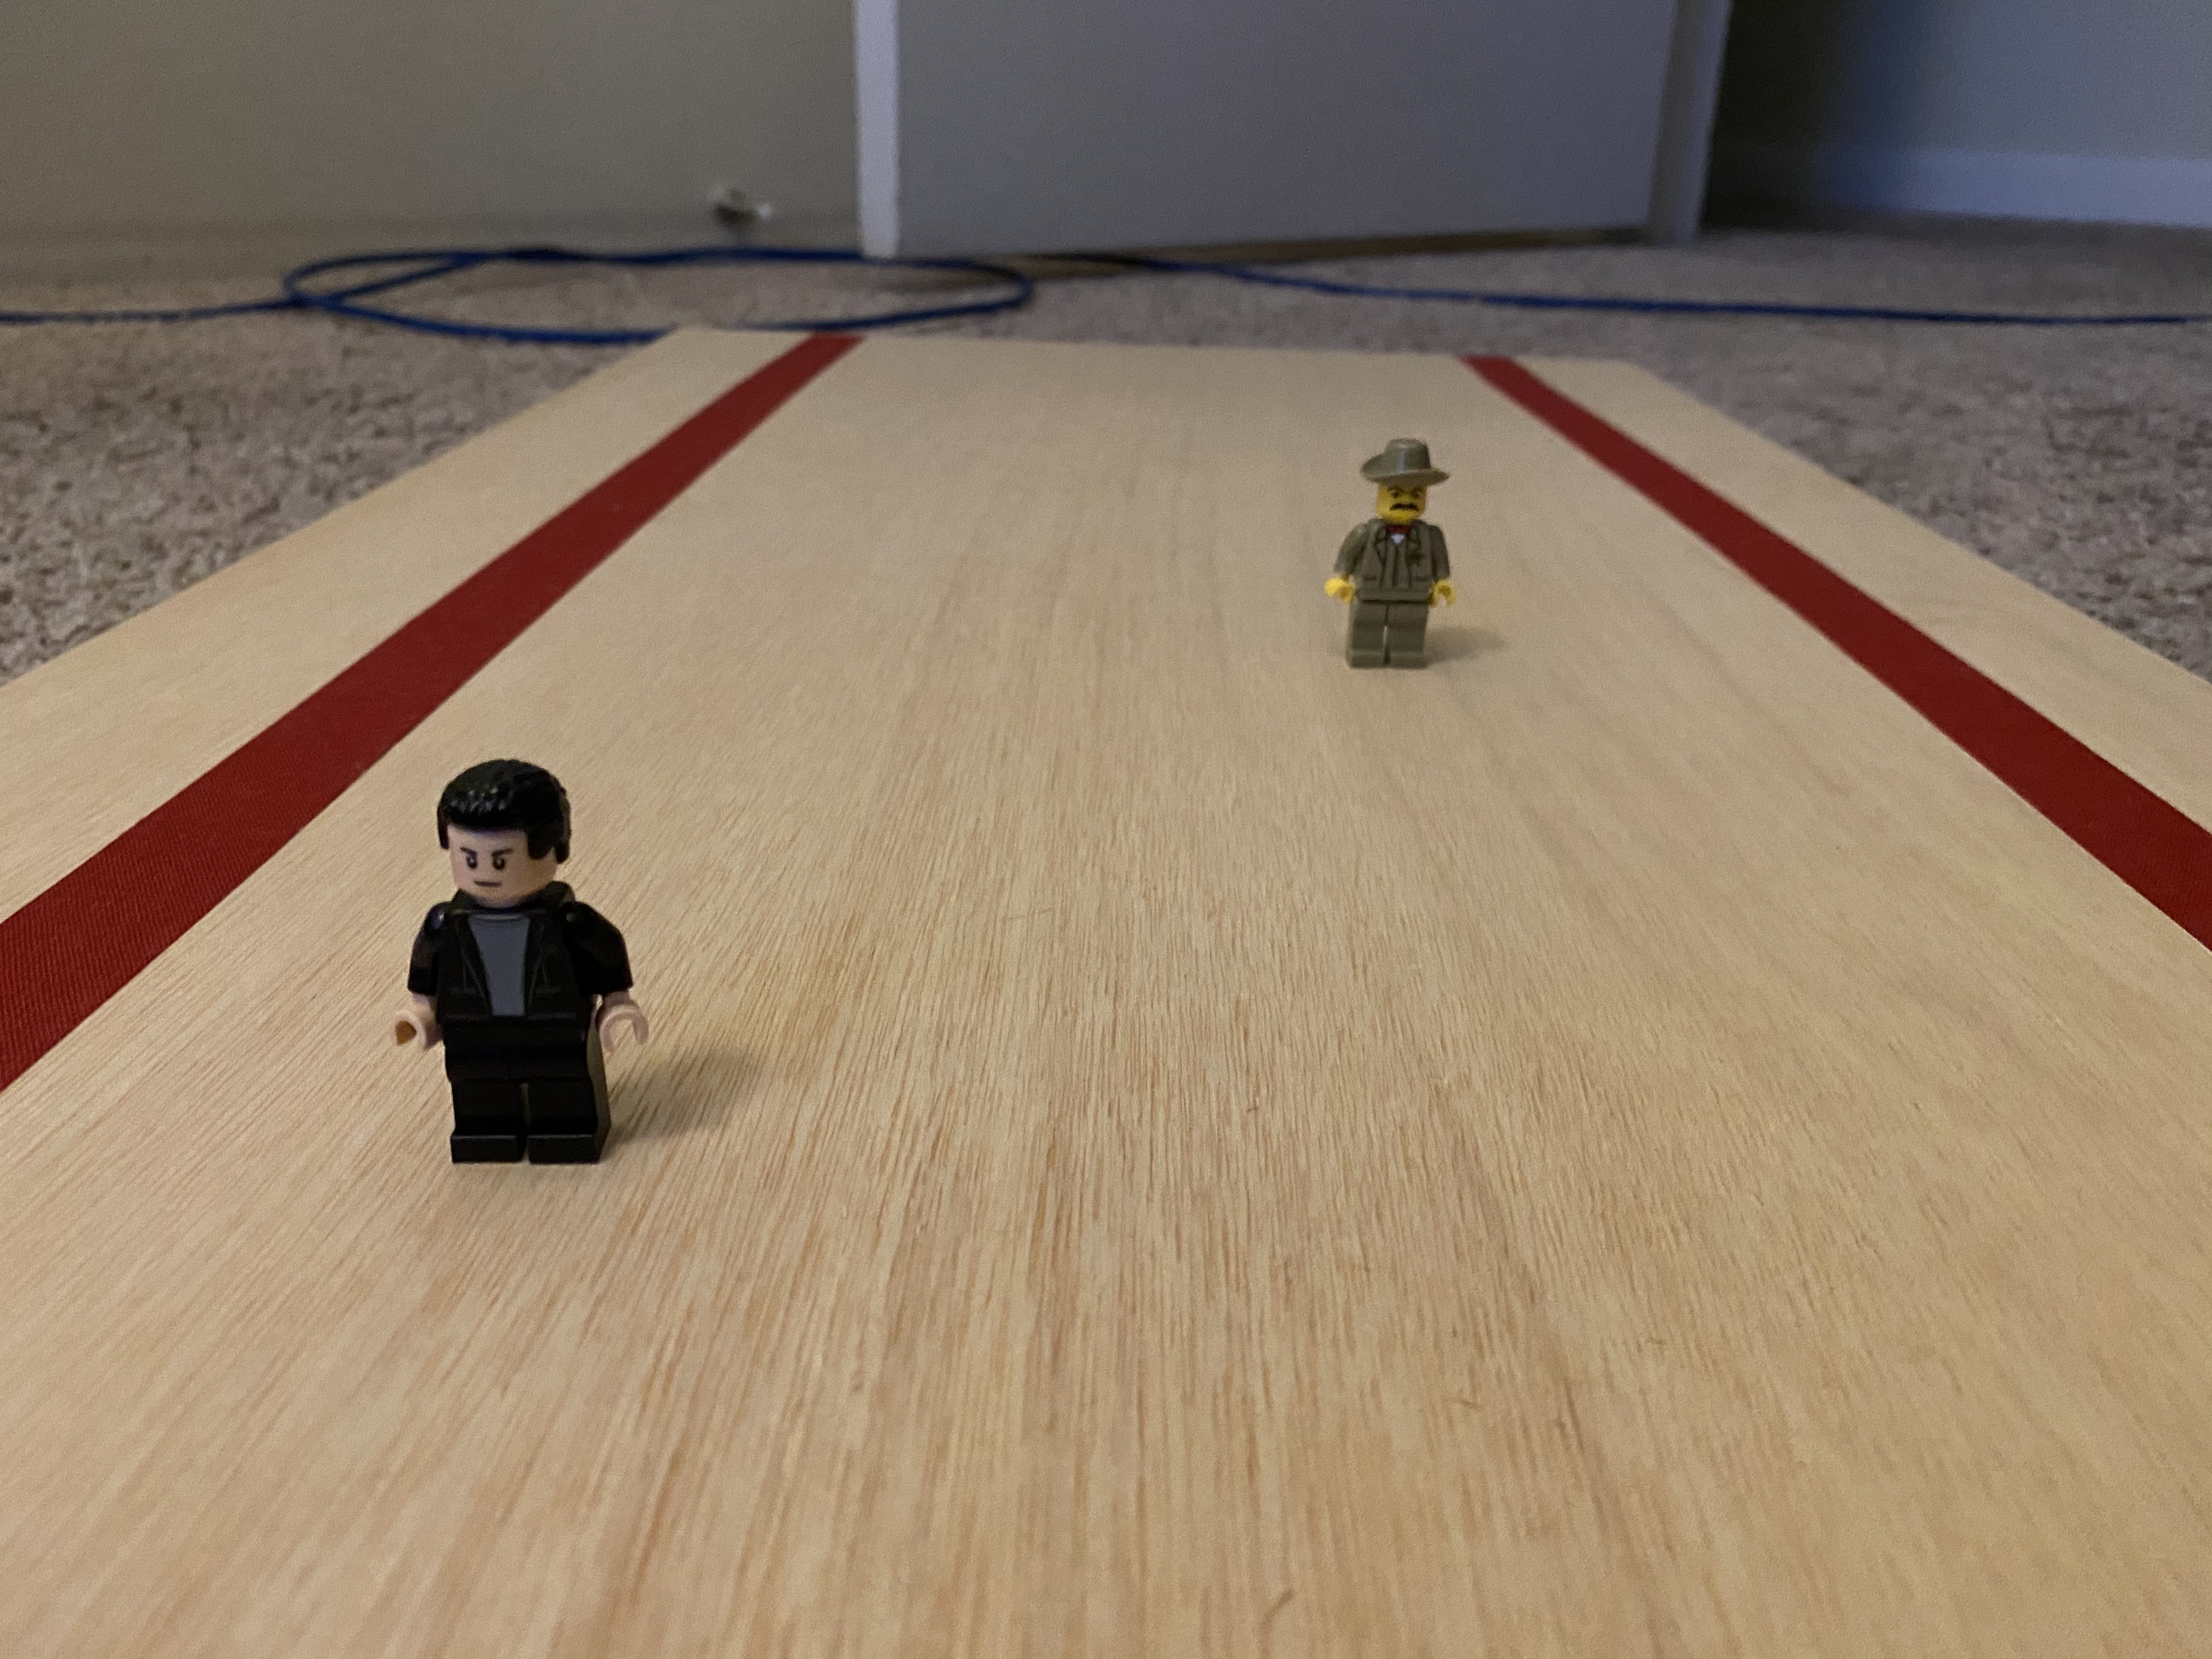Person: (342, 738, 718, 1200), (1302, 432, 1486, 683)
